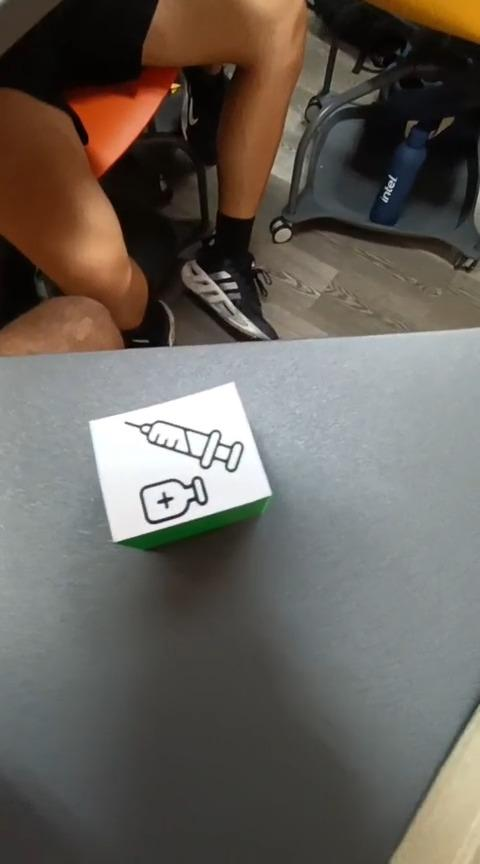antiseptic cream: (87, 380, 273, 551)
